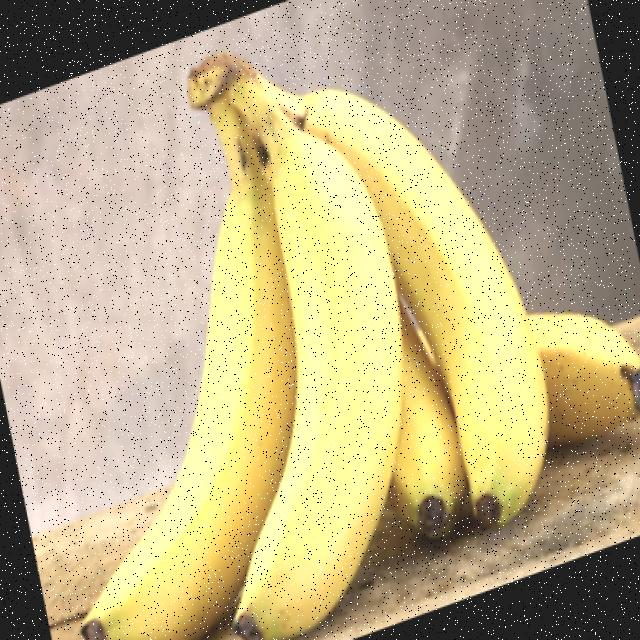god quality banana: (83, 52, 640, 640)
